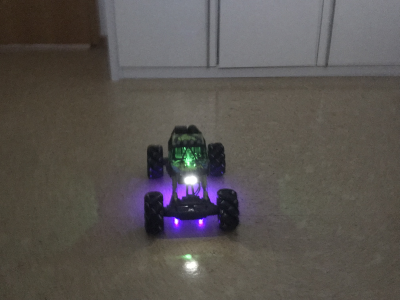remote control car: (143, 123, 240, 235)
